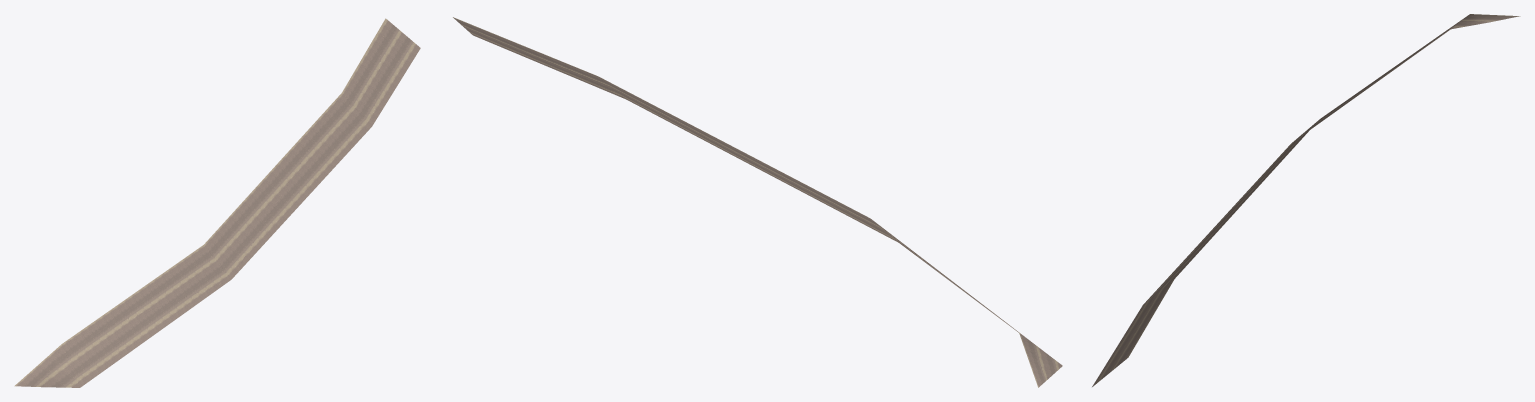
Rendered from kd_stage_1363c5_8_6_bounded.glb.
The picture shows the model from 3 angles, left to right: view 1: azimuth 90°, elevation 25°; view 2: azimuth 150°, elevation 25°; view 3: azimuth 270°, elevation 25°; orthographic projection. The views are drawn at different scales.
Parts seen in each view (by area): view 1: kd_stage_1363c5_8_6_bounded; view 2: kd_stage_1363c5_8_6_bounded; view 3: kd_stage_1363c5_8_6_bounded.
Boxes of the visible parts, left/top/right/bottom form: kd_stage_1363c5_8_6_bounded: left=14, top=18, right=420, bottom=387; kd_stage_1363c5_8_6_bounded: left=453, top=17, right=1062, bottom=387; kd_stage_1363c5_8_6_bounded: left=1092, top=14, right=1520, bottom=386.
Bounding box in the file's own units: 43.42 × 1.96 × 21.58.
1 material, 1 textured.
